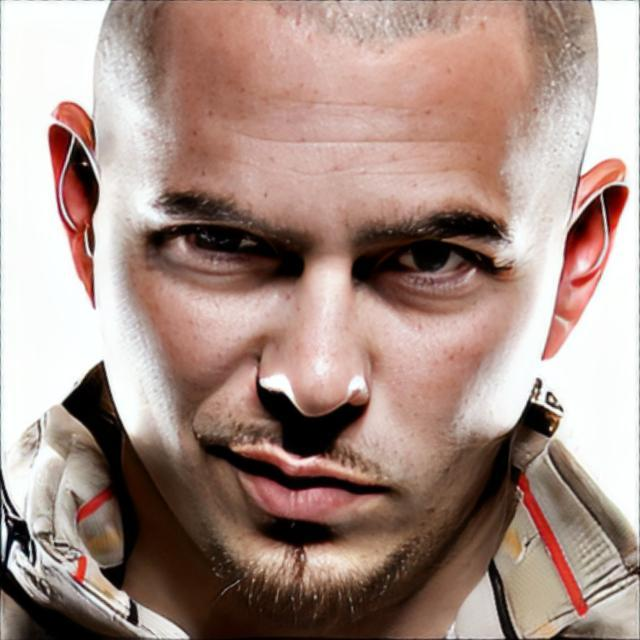Angry: (103, 16, 566, 614)
